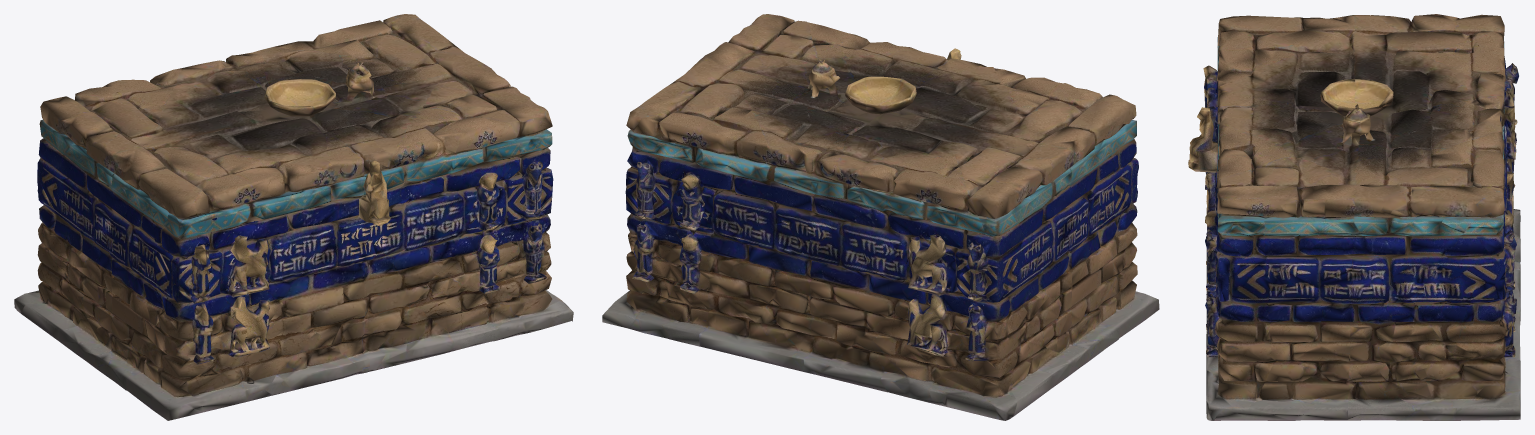
File: ziggurat_golden_altar.glb
3 views of the same model, side by side, from view 1: azimuth 30°, elevation 25°; view 2: azimuth 150°, elevation 25°; view 3: azimuth 270°, elevation 25° (orthographic). The views are drawn at different scales.
Parts seen in each view (by area): view 1: Mesh_0; view 2: Mesh_0; view 3: Mesh_0.
Part boxes in pixels (box(x1,y1,x2,y2)): Mesh_0: box(14, 14, 573, 420); Mesh_0: box(602, 14, 1159, 420); Mesh_0: box(1188, 14, 1520, 420).
Bounding box in the file's own units: 1.9 × 1.08 × 1.32.
Materials: 1 (1 with a texture image).
